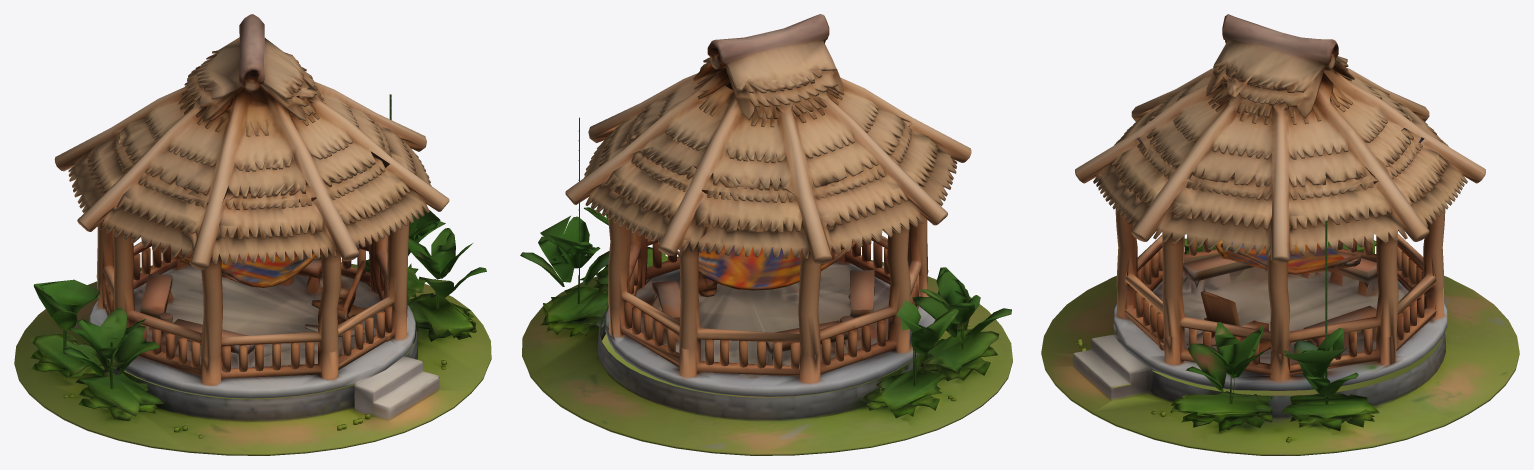
File: Kiosko.fbx
3 views of the same model, side by side, from view 1: azimuth 30°, elevation 25°; view 2: azimuth 150°, elevation 25°; view 3: azimuth 270°, elevation 25° (orthographic). The views are drawn at different scales.
Parts seen in each view (by area): view 1: mesh_rep_0_ori_repair_quad; view 2: mesh_rep_0_ori_repair_quad; view 3: mesh_rep_0_ori_repair_quad.
Part boxes in pixels (bbox=[...]): mesh_rep_0_ori_repair_quad: bbox=[14, 14, 491, 455]; mesh_rep_0_ori_repair_quad: bbox=[520, 14, 1012, 455]; mesh_rep_0_ori_repair_quad: bbox=[1041, 14, 1519, 455].
Bounding box in the file's own units: 97.69 × 70.32 × 94.1.
Materials: 1 (1 with a texture image).
